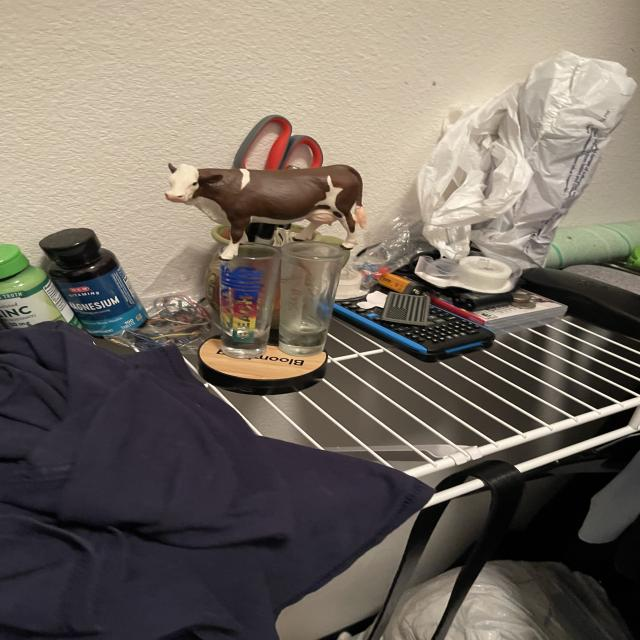cow: (165, 164, 366, 248)
